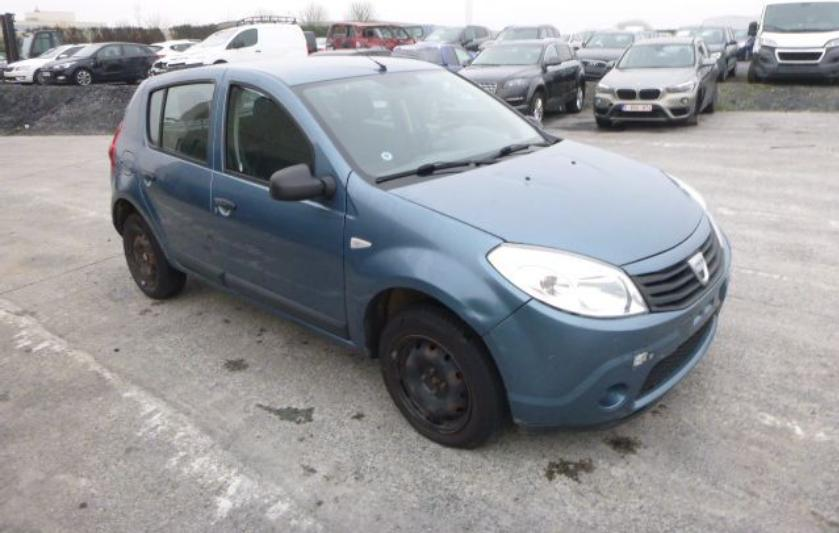Back-door: (138, 63, 229, 287)
Back-wheel: (122, 210, 188, 299)
Back-window: (162, 84, 214, 160), (149, 89, 163, 145)
Fender: (344, 171, 534, 348)
Front-bumper: (481, 227, 732, 430)
Front-door: (210, 63, 353, 340)
Front-wheel: (378, 297, 513, 449)
Front-window: (227, 83, 316, 181)
Grille: (618, 209, 726, 313)
Headlight: (487, 242, 649, 317), (661, 170, 723, 248)
Hood: (386, 139, 704, 267)
Mirror: (270, 164, 337, 202)
Quarter-panel: (111, 113, 188, 274)
Rocker-panel: (187, 268, 374, 359)
Roof: (229, 56, 447, 88)
Tail-light: (108, 117, 125, 178)
Windshield: (290, 69, 565, 190)
